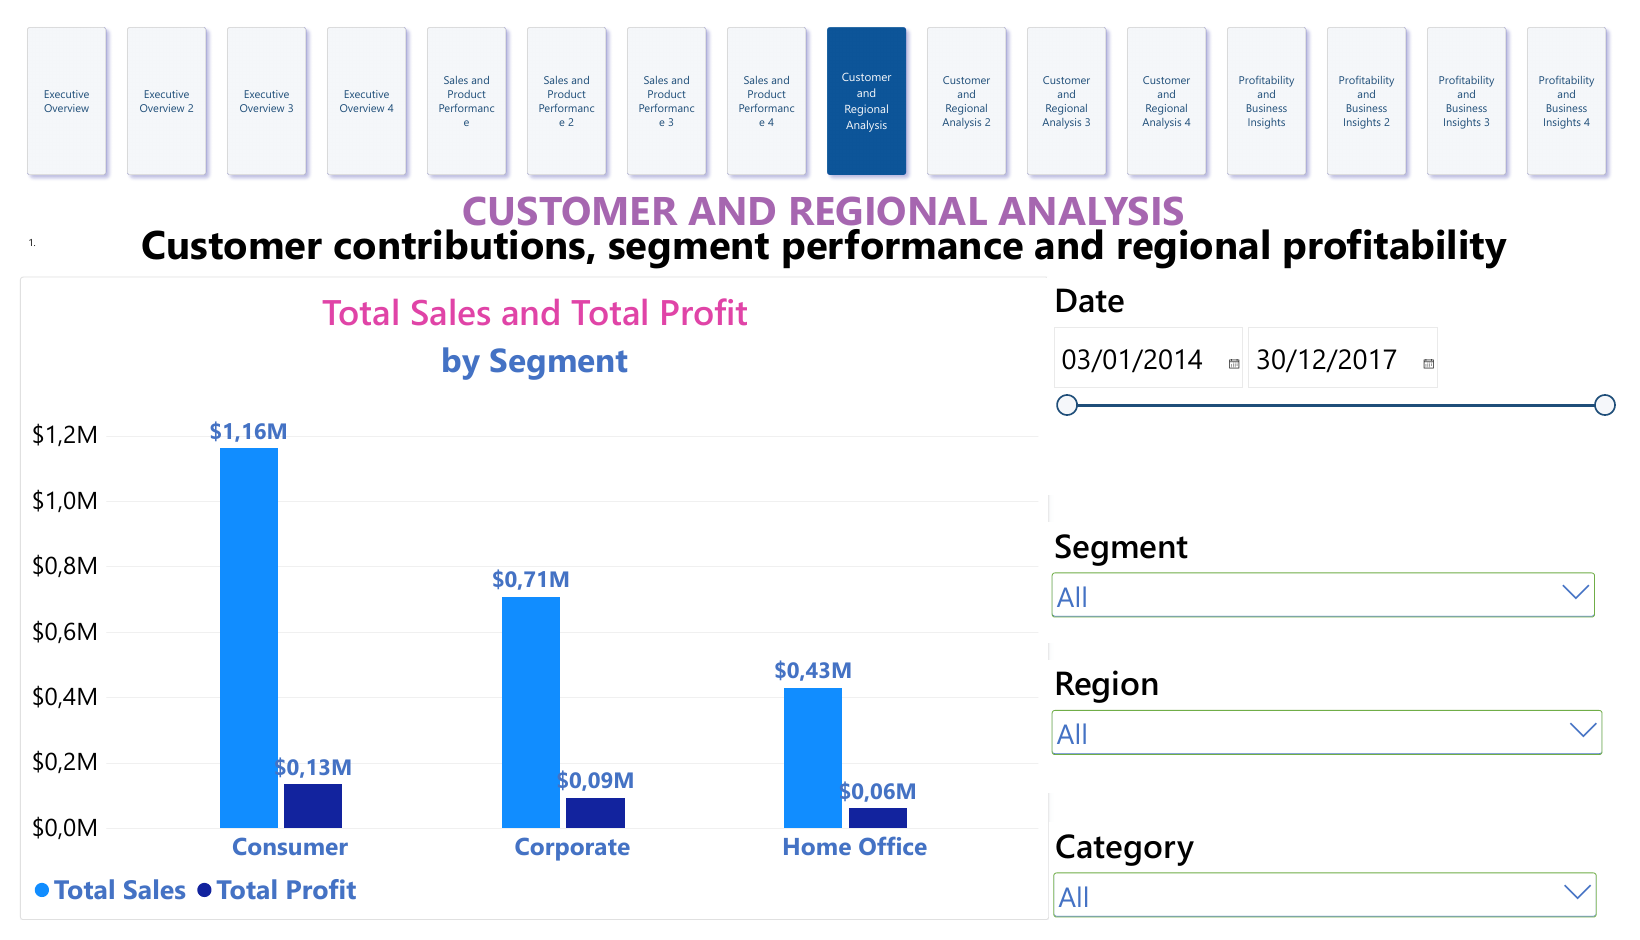

What the dashboard file says about the page in this screenshot:
{"tool":"powerbi","page":{"name":"Customer and Regional Analysis","canvas":[1920,1080],"ordinal":8},"visuals":[{"type":"textbox","box":[10,195,1910,280],"z":0},{"type":"textbox","box":[10,235,1910,280],"z":1000},{"type":"clusteredColumnChart","fields":{"Category":["sales data.Segment"],"Y":["sales data.Total Sales","sales data.Total Profit"]},"box":[0,307.5,1235,772.5],"z":2000},{"type":"slicer","fields":{"Values":["Date_Table.Date"]},"box":[1232.5,307.5,685,262.5],"z":3000},{"type":"slicer","fields":{"Values":["sales data.Segment"]},"box":[1232.5,602.5,662.5,145],"z":4000},{"type":"slicer","fields":{"Values":["sales data.Region"]},"box":[1232.5,767.5,671,160],"z":5000},{"type":"slicer","fields":{"Values":["sales data.Category"]},"box":[1235,962.5,662,118],"z":6000},{"type":"pageNavigator","box":[0,0,1920,195],"z":6001}]}

Visuals, with their boxes on the page's 1920x1080 design canvas (x1, y1, x2, y2). These are canvas units, not pixel positions in the 1640x940 screenshot, which may show the page scaled, cropped or inside an application window:
textbox: [left=10, top=195, right=1920, bottom=475]
textbox: [left=10, top=235, right=1920, bottom=515]
clusteredColumnChart - sales data.Segment x sales data.Total Sales: [left=0, top=308, right=1235, bottom=1080]
slicer - Date_Table.Date: [left=1232, top=308, right=1918, bottom=570]
slicer - sales data.Segment: [left=1232, top=602, right=1895, bottom=748]
slicer - sales data.Region: [left=1232, top=768, right=1904, bottom=928]
slicer - sales data.Category: [left=1235, top=962, right=1897, bottom=1080]
pageNavigator: [left=0, top=0, right=1920, bottom=195]
